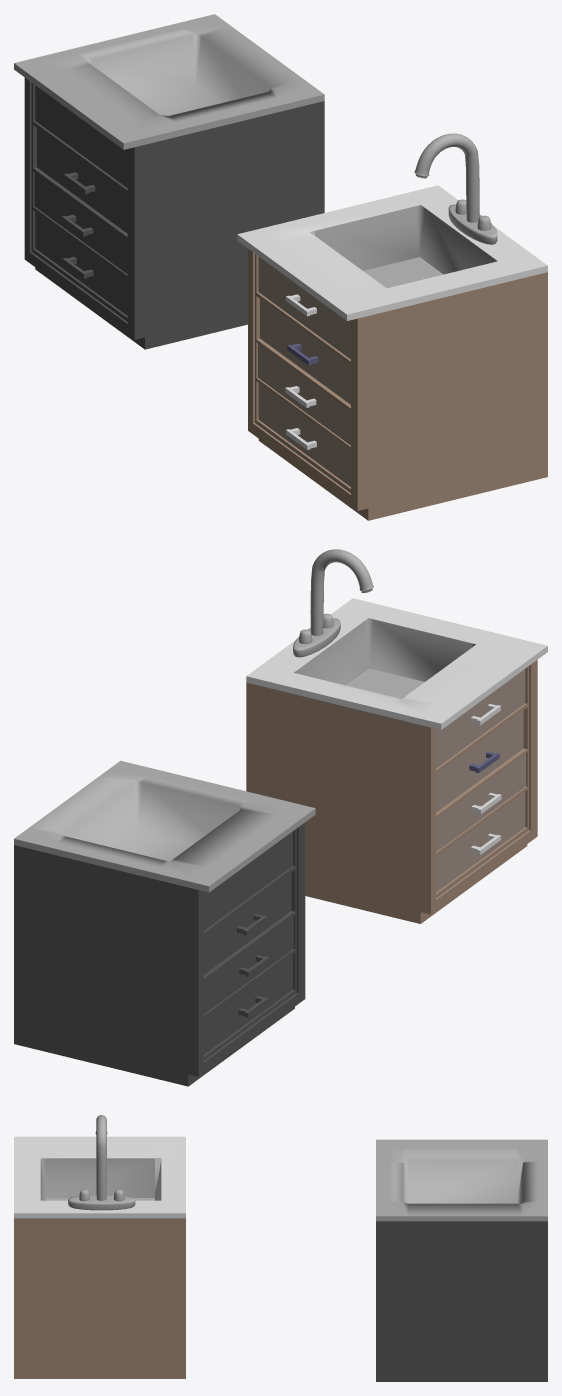
Rendered from comptoir_millieu_evier.fbx.
3 views of the same model, one above another, from view 1: azimuth 30°, elevation 25°; view 2: azimuth 150°, elevation 25°; view 3: azimuth 270°, elevation 25° (orthographic). The views are drawn at different scales.
Visible parts, largest first — view 1: polySurface7, pasted__comptoir; view 2: pasted__comptoir, polySurface7; view 3: polySurface7, pasted__comptoir.
Part boxes in pixels (x1,y1,x2,y2): polySurface7: (237, 133, 547, 520); pasted__comptoir: (14, 14, 324, 349); pasted__comptoir: (14, 760, 315, 1086); polySurface7: (246, 549, 547, 923); polySurface7: (14, 1115, 185, 1378); pasted__comptoir: (376, 1139, 547, 1381).
Size of the model in its own units: 4.69 by 6.7 by 13.27.
